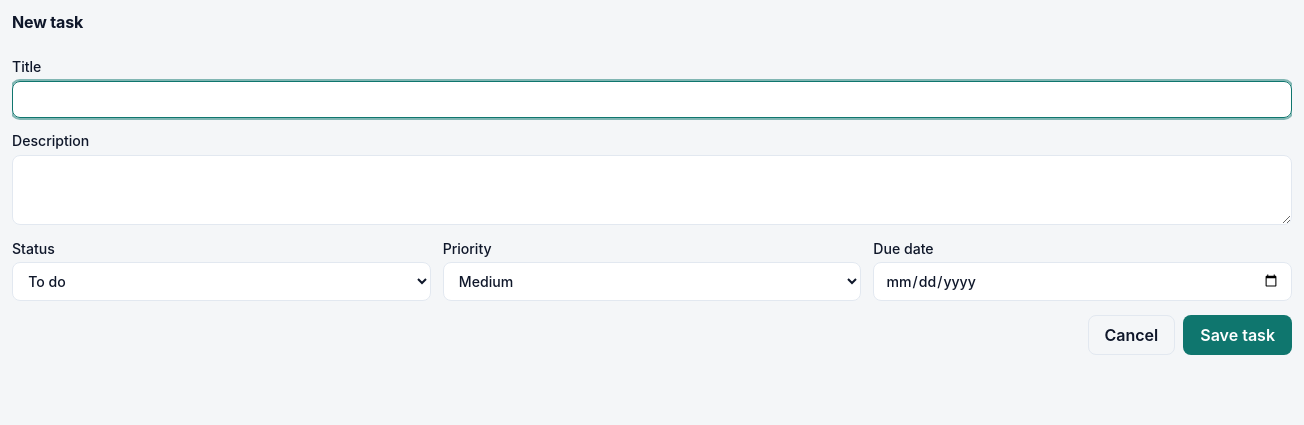
Scenario: TaskForm › requires a title
This screenshot has width=1304, height=425.
Click the button "Save task".
click(1238, 335)  # box [1183,315,1292,355]
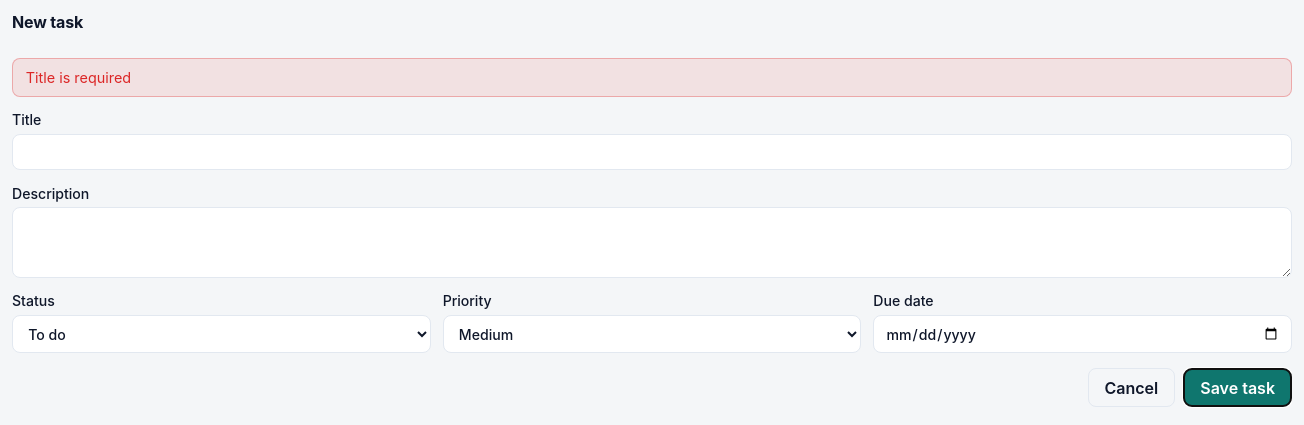
Now the message reads "Title is required", box [26,69,131,86]
